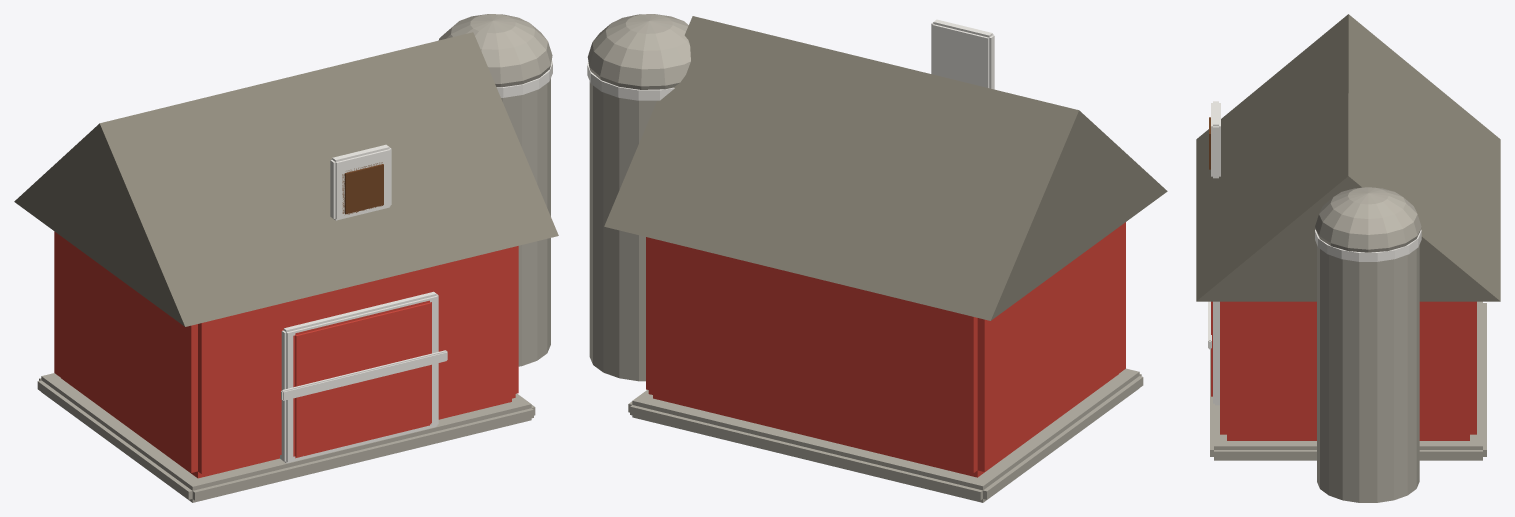
Rendered from barn.glb.
The picture shows the model from 3 angles, left to right: view 1: azimuth 30°, elevation 25°; view 2: azimuth 150°, elevation 25°; view 3: azimuth 270°, elevation 25°; orthographic projection. The views are drawn at different scales.
Parts seen in each view (by area): view 1: barn; view 2: barn; view 3: barn.
Part boxes in pixels (x1=…): barn: x1=14, y1=14, x2=558, y2=502; barn: x1=587, y1=14, x2=1167, y2=502; barn: x1=1196, y1=14, x2=1500, y2=502.
Bounding box in the file's own units: 2.37 × 1.63 × 1.54.
